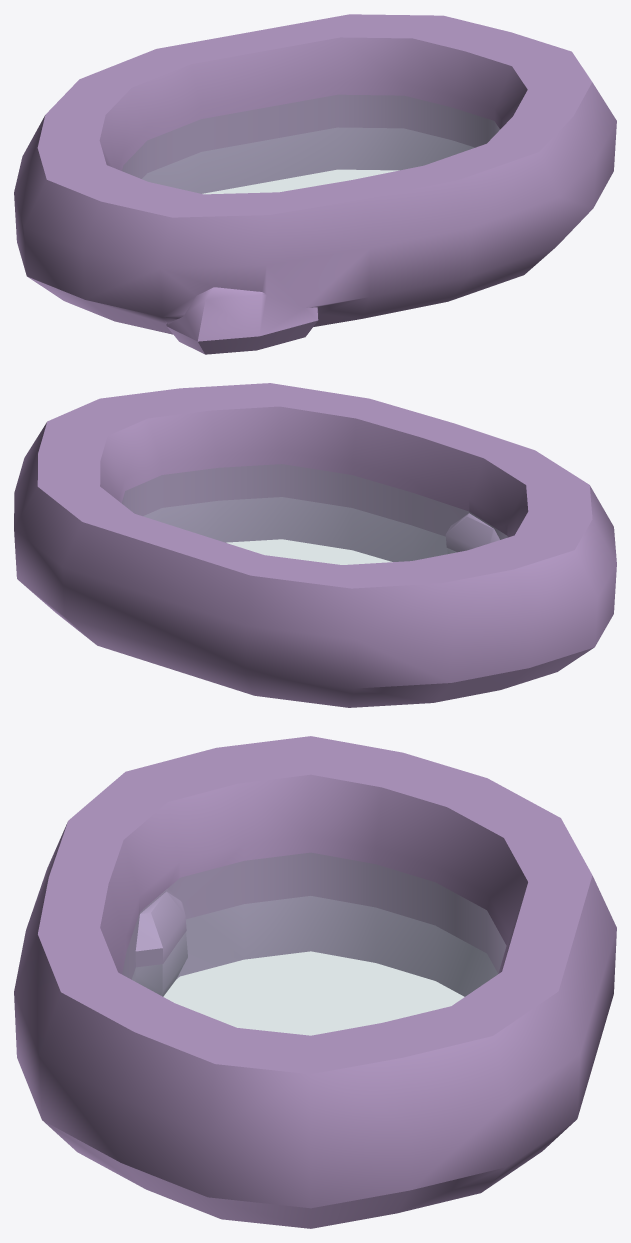
The model's file is small-tide-pool-rim.glb.
3 views of the same model, one above another, from view 1: azimuth 30°, elevation 25°; view 2: azimuth 150°, elevation 25°; view 3: azimuth 270°, elevation 25° (orthographic). The views are drawn at different scales.
Parts seen in each view (by area): view 1: small-tide-pool-rim; view 2: small-tide-pool-rim; view 3: small-tide-pool-rim.
Boxes of the visible parts, x1,y1,x2,y2 form: small-tide-pool-rim: [14, 14, 616, 354]; small-tide-pool-rim: [14, 383, 616, 707]; small-tide-pool-rim: [14, 736, 616, 1228].
Size of the model in its own units: 5.14 by 1.08 by 3.56.
2 materials, 1 textured.
